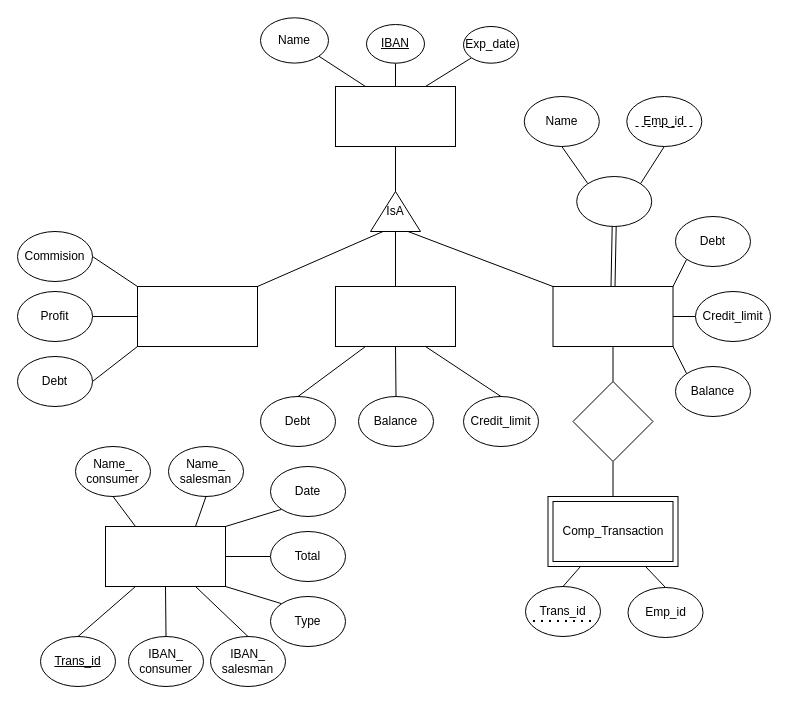
Some shapes in this 788 by 704 pixel diagram are drawn without their labels. The shapes that lost their labels are listed below. From the top down, each one's centre as x and y in pixels, then its label:
At (395,116): "Account_holder".
At (614,201): "Employee".
At (197,316): "Salesman".
At (395,316): "Individual".
At (612,316): "Company".
At (612,421): "Commits".
At (165,556): "Transaction".
